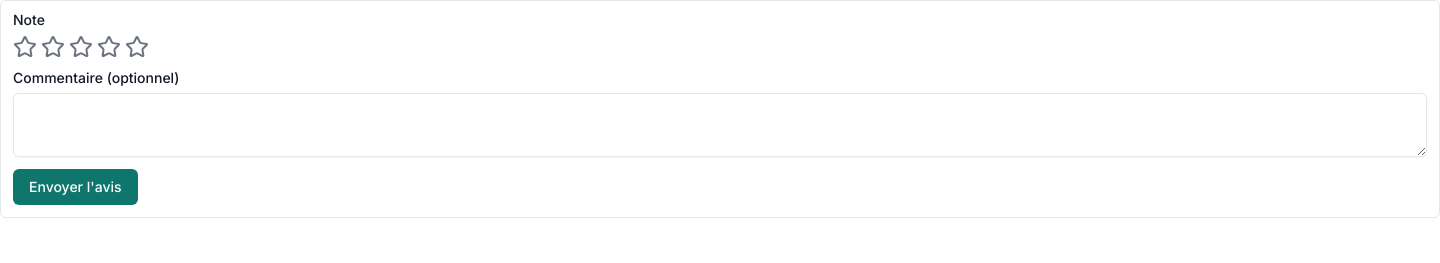
Test: ReviewForm › requires a rating before submitting
Click the button "Envoyer l'avis". click: (75, 187)
box: [13,169,138,205]
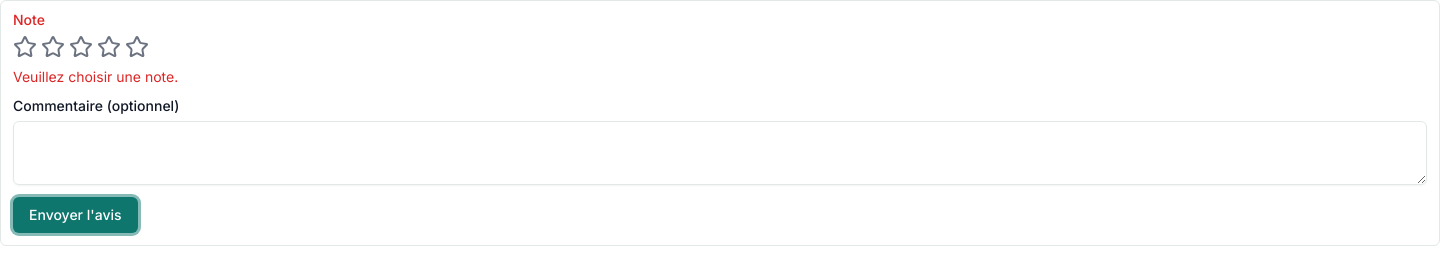
Result: the text "Veuillez choisir une note." is shown at [13,68,178,85]
